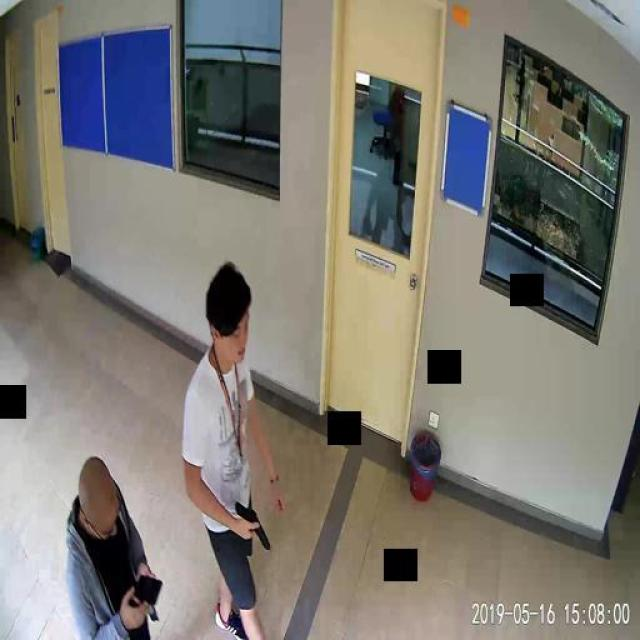gun: (234, 500, 268, 551)
